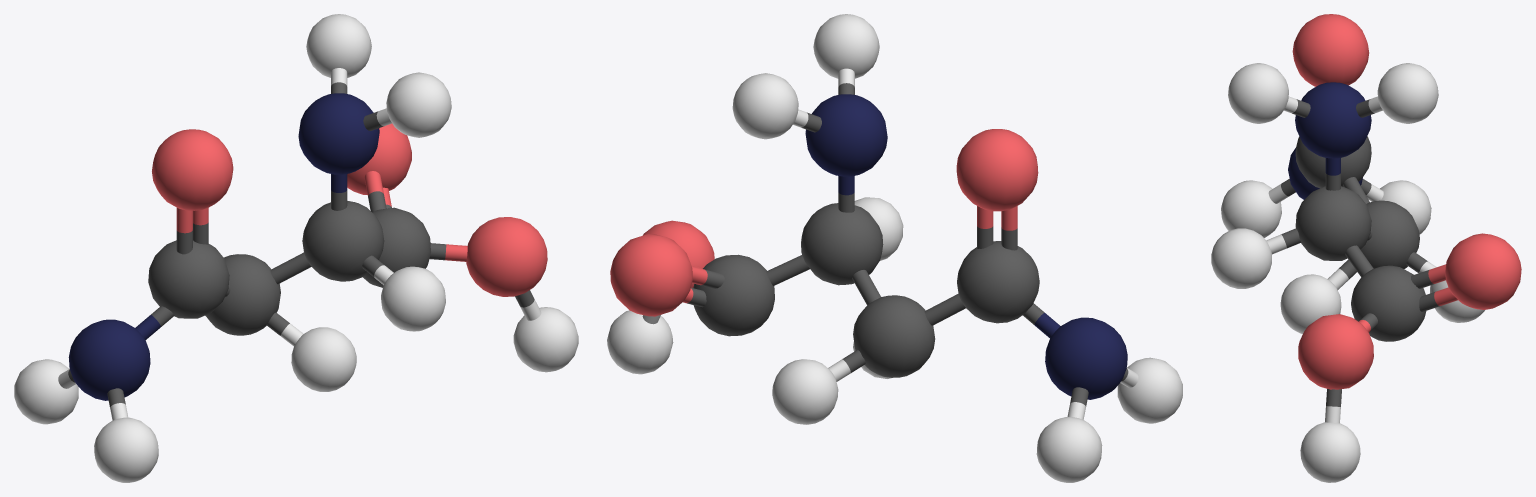
The model's file is 10_Asparagina.fbx.
3 renders of one model, left to right at view 1: azimuth 30°, elevation 25°; view 2: azimuth 150°, elevation 25°; view 3: azimuth 270°, elevation 25°, orthographic. The views are drawn at different scales.
Parts seen in each view (by area): view 1: m_asparagina; view 2: m_asparagina; view 3: m_asparagina.
Part boxes in pixels (x1,y1,x2,y2): m_asparagina: (14,14,578,482); m_asparagina: (607,14,1182,482); m_asparagina: (1211,14,1521,482).
Bounding box in the file's own units: 809 × 975 × 1459.
